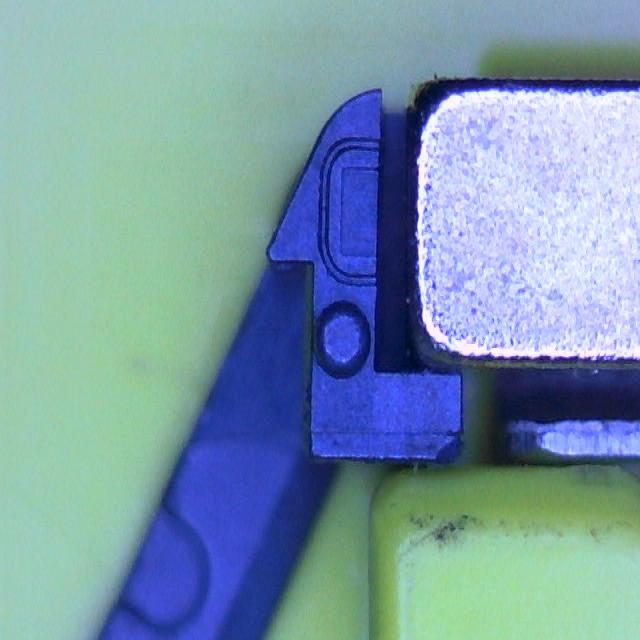noResin: (318, 134, 386, 289)
